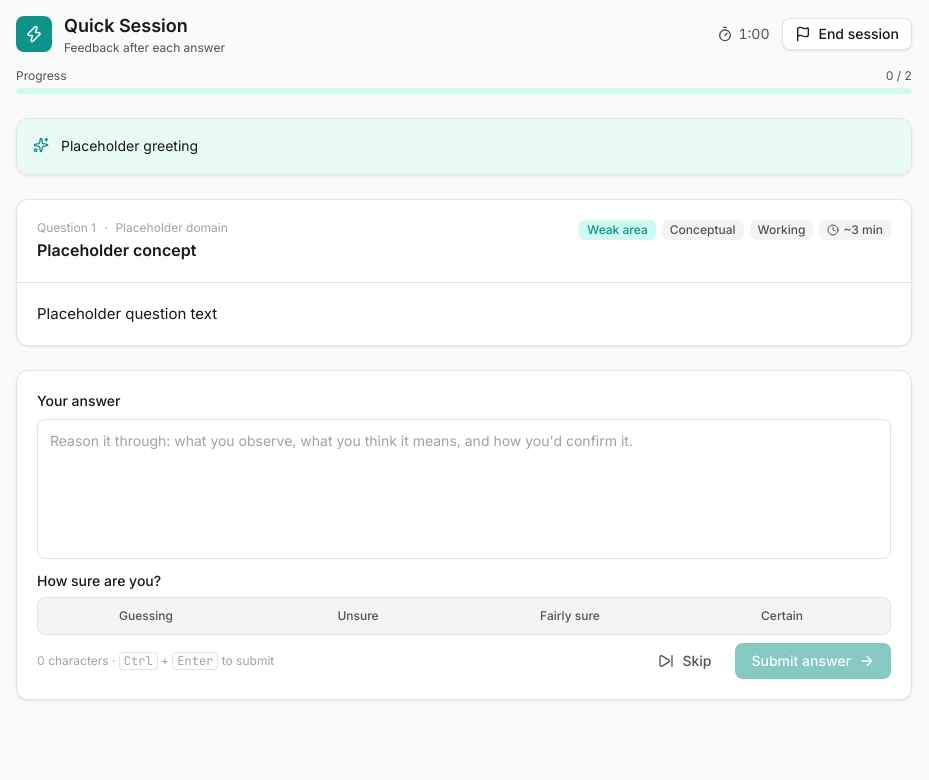
Scenario: SessionPage › keeps the draft on an AI quota error and Retry resubmits the same answer
Type "Placeholder draft" into the text box labelled "Your answer" at (464, 489), box [37, 419, 891, 559]
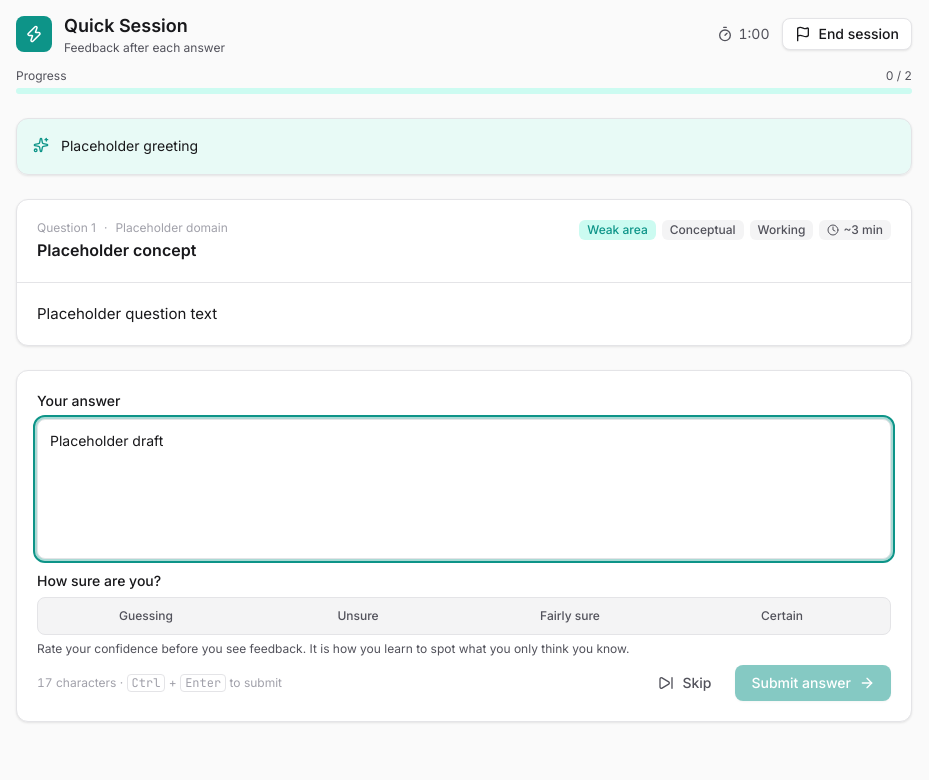
Click the radio button labelled "Fairly sure" at (570, 616), box [466, 602, 674, 630]
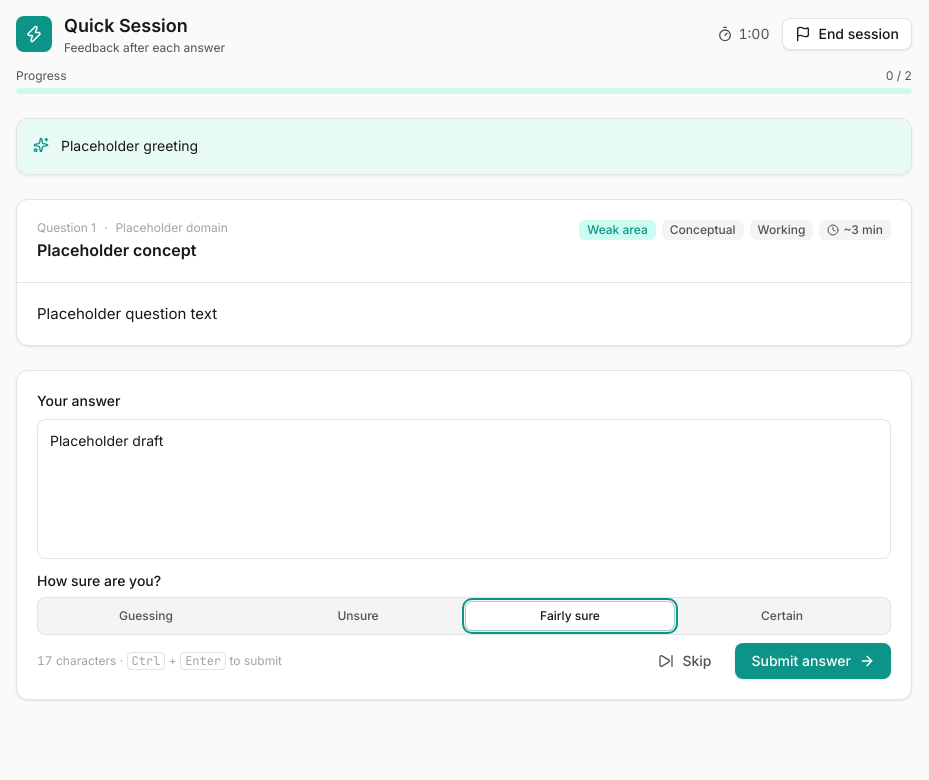
Click the button "Submit answer" at (813, 661), box [736, 643, 891, 679]
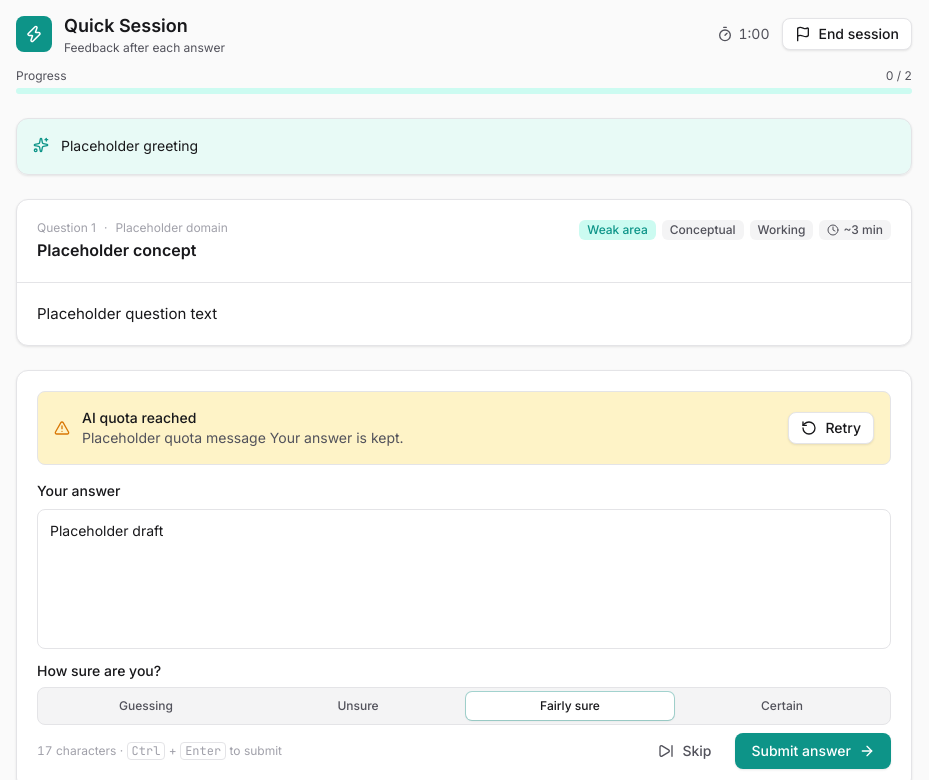
expect the message shows "AI quota reached": met, box [82, 409, 196, 426]
expect the message shows "Placeholder quota message": met, box [82, 429, 266, 446]
Click the button "Retry" at (831, 428), box [788, 412, 874, 444]
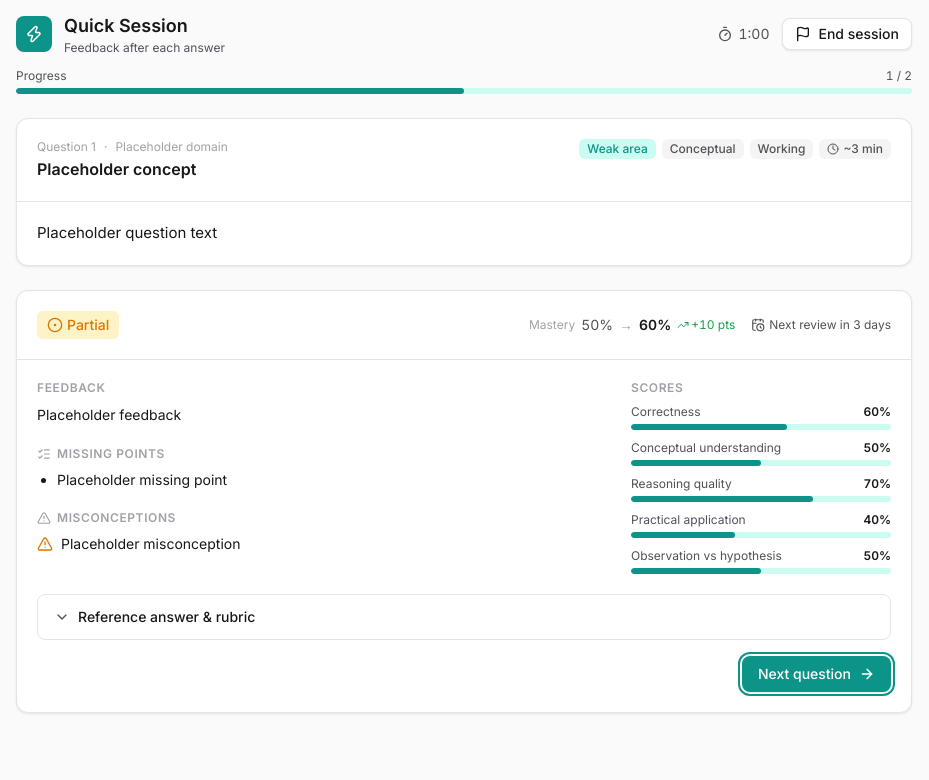
expect the text "Placeholder feedback" is shown: met, box [37, 406, 181, 422]
